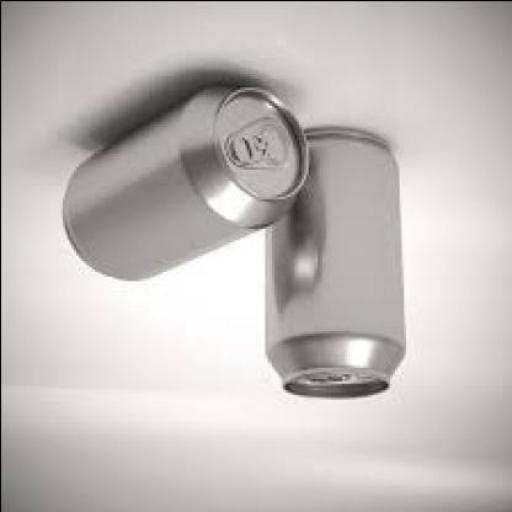metal: (63, 84, 312, 285), (264, 128, 407, 400)
